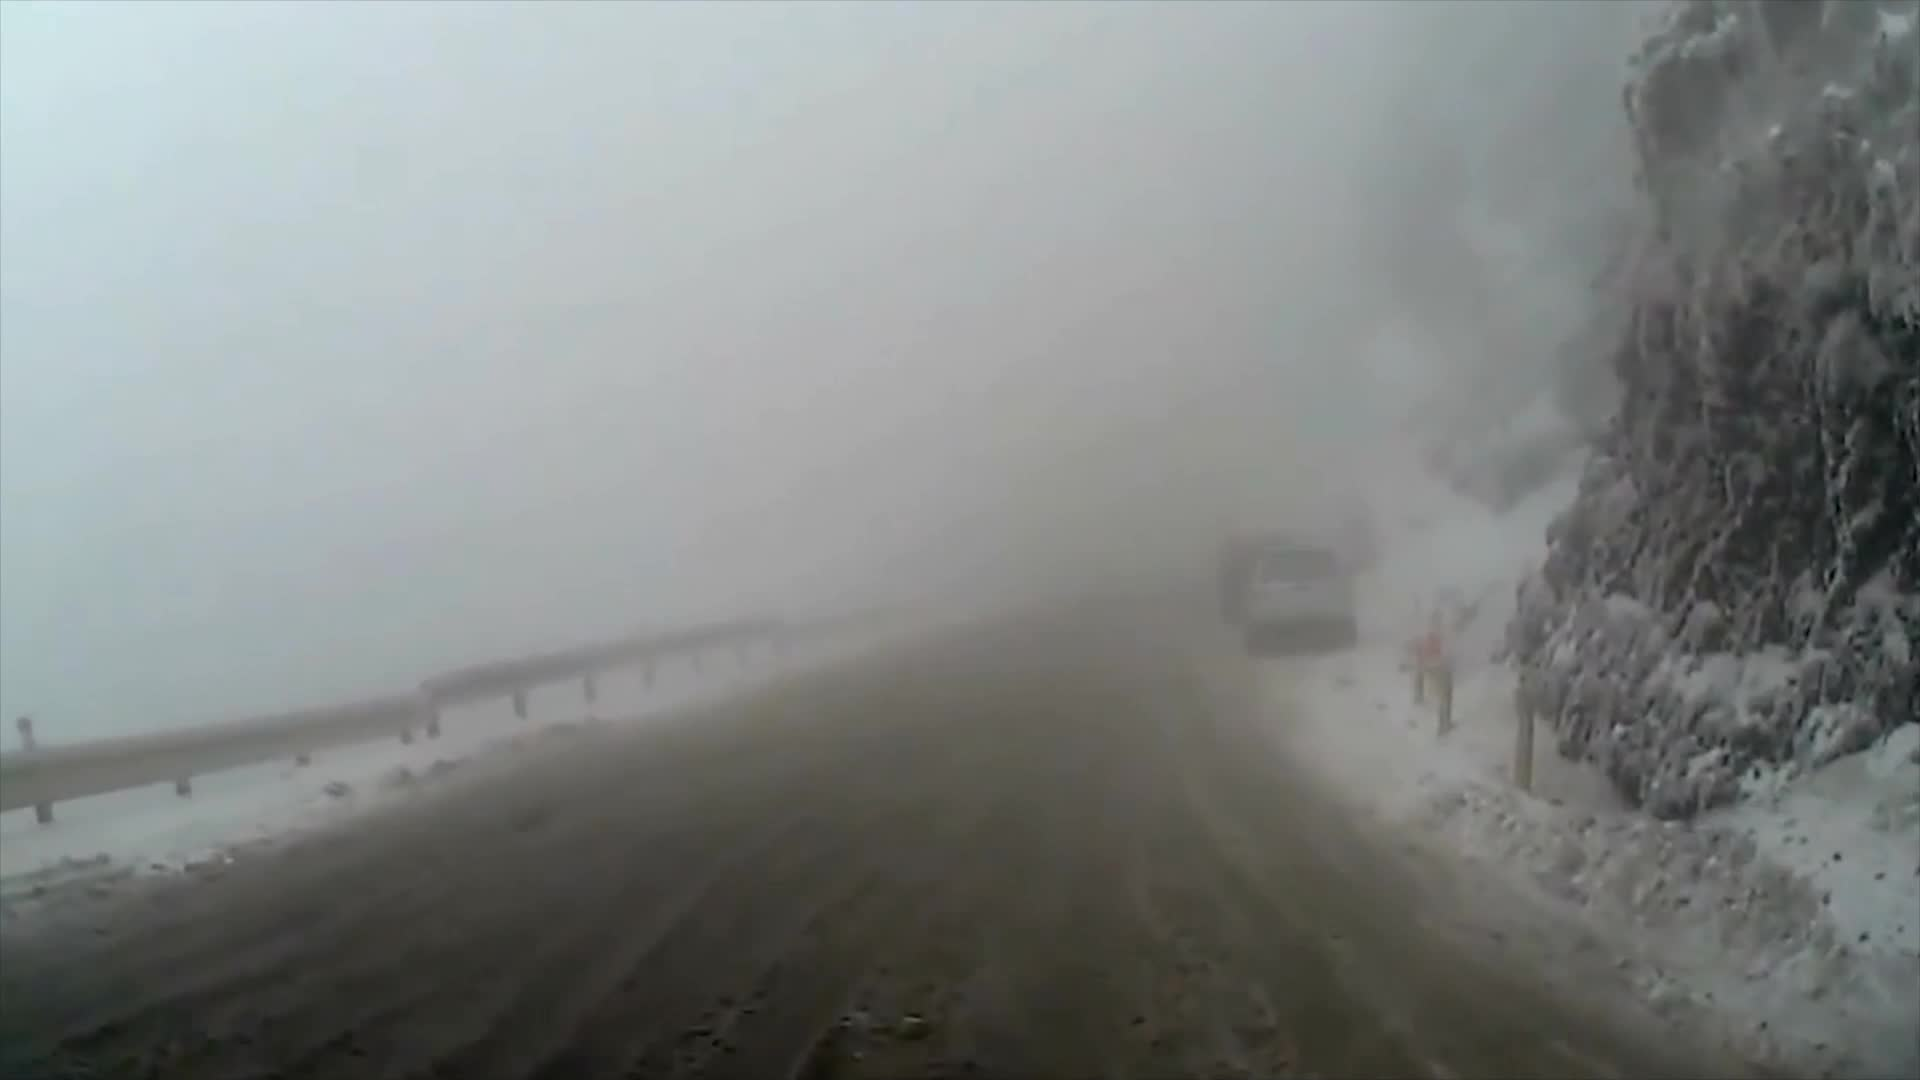vehicle: (1244, 537, 1360, 651)
